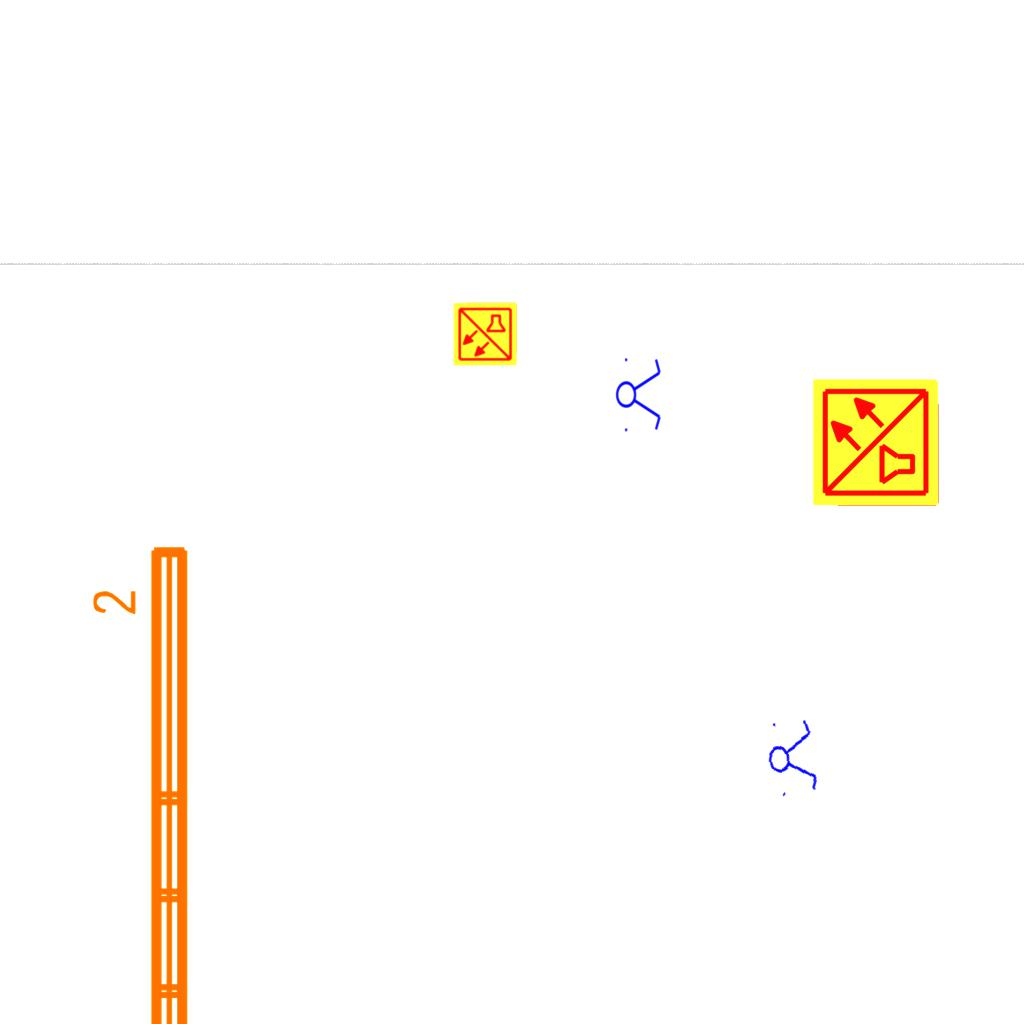Ambulanz_Pendelleuchte_LED: (88, 538, 200, 1024)
OKW_Multisensormelder_(Kombination_optischer_Rauch-Kahlenmonoxid_Waerme-Melder): (810, 376, 942, 508), (452, 301, 518, 367)
Serienschalter: (762, 712, 822, 802), (615, 352, 663, 436)
